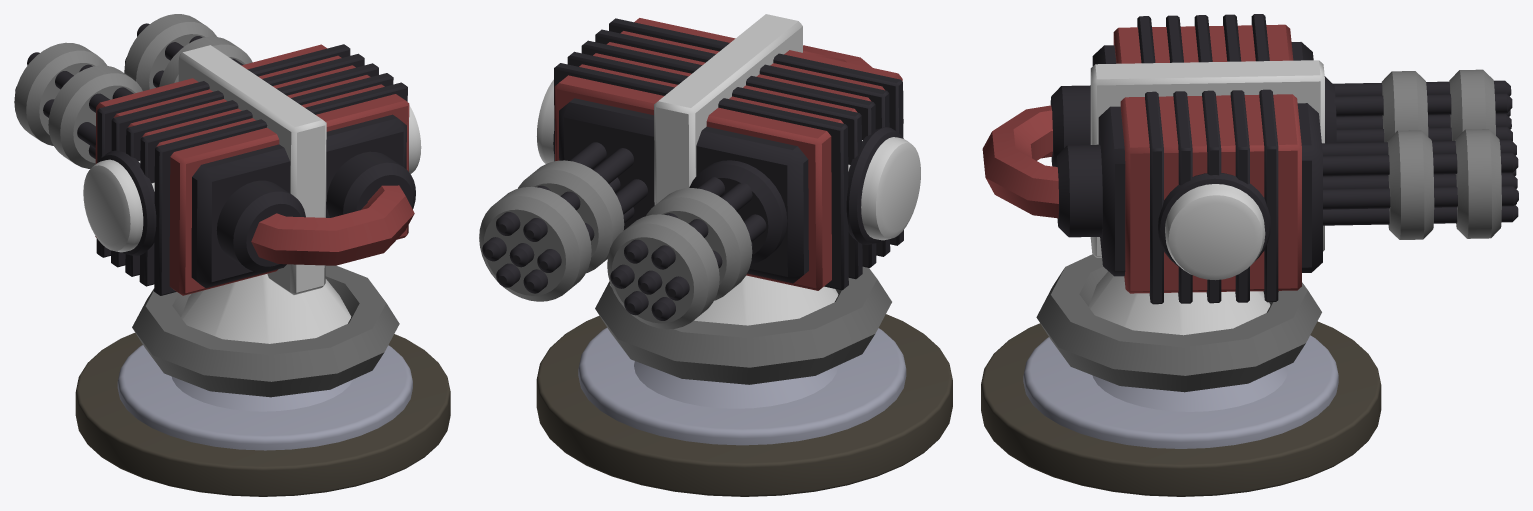
Rendered from tower_3.fbx.
3 views of the same model, side by side, from view 1: azimuth 30°, elevation 25°; view 2: azimuth 150°, elevation 25°; view 3: azimuth 270°, elevation 25° (orthographic). The views are drawn at different scales.
Parts seen in each view (by area): view 1: 圆柱; view 2: 圆柱; view 3: 圆柱.
Part boxes in pixels (box(x1,y1,x2,y2)): 圆柱: box(14, 14, 450, 496); 圆柱: box(479, 14, 952, 496); 圆柱: box(981, 14, 1518, 496).
Bounding box in the file's own units: 73.33 × 69.76 × 98.58.
